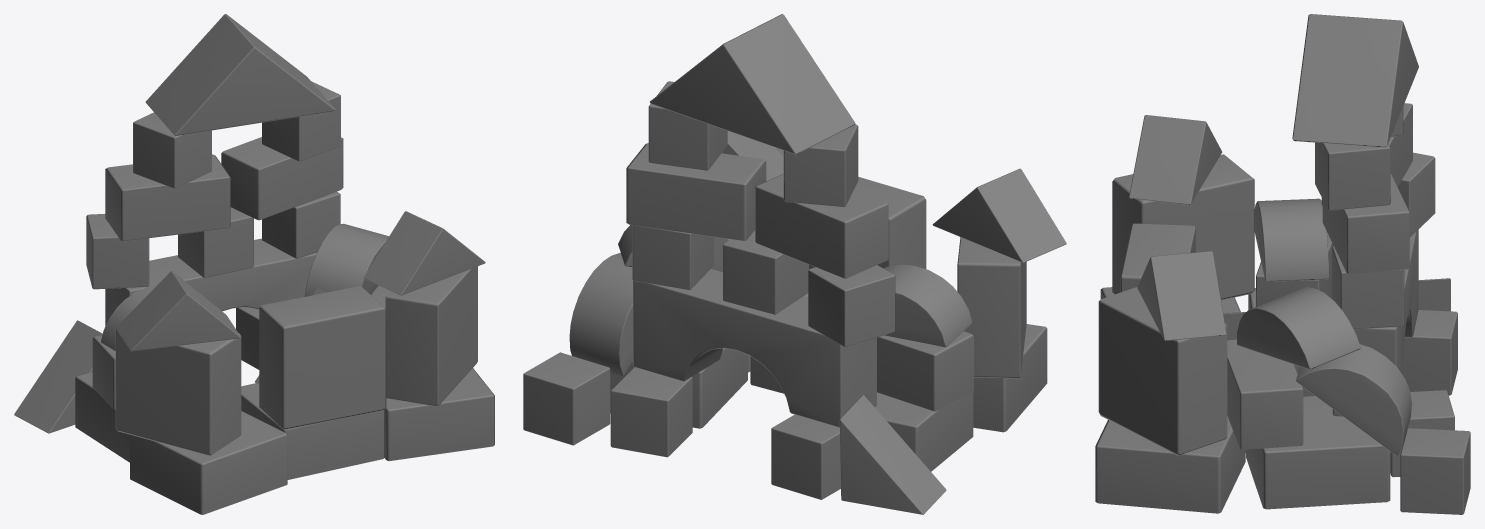
Rendered from Tsumiki.fbx.
3 views of the same model, side by side, from view 1: azimuth 30°, elevation 25°; view 2: azimuth 150°, elevation 25°; view 3: azimuth 270°, elevation 25° (orthographic). The views are drawn at different scales.
Parts seen in each view (by area): view 1: pCube33, pCube26, pCube34, pCube19, pCube16, pCube18, pCube17, pCube22, pCube3, pCube31, pCube28, pCube27 (+11 smaller); view 2: pCube3, pCube34, pCube22, pCube18, pCube30, pCube26, pCube28, pCube29, pCube20, pCube8, pCube10, polySurface3 (+13 smaller); view 3: pCube19, pCube34, pCube13, pCube26, pCube17, polySurface3, polySurface4, pCube25, pCube28, pCube27, pCube29, polySurface2 (+11 smaller).
Boxes of the visible parts, box(x1,y1,x2,y2) form: pCube33: box(259, 286, 386, 429); pCube26: box(115, 329, 241, 456); pCube34: box(145, 14, 335, 136); pCube19: box(385, 266, 477, 406); pCube16: box(130, 411, 287, 514); pCube18: box(105, 154, 230, 241); pCube17: box(384, 368, 494, 460); pCube22: box(221, 137, 343, 220); pCube3: box(105, 238, 316, 325); pCube31: box(241, 383, 384, 479); pCube28: box(116, 271, 241, 351); pCube27: box(363, 211, 485, 295); pCube3: box(633, 269, 876, 427); pCube34: box(650, 14, 855, 154); pCube22: box(626, 143, 766, 240); pCube18: box(755, 174, 888, 278); pCube30: box(839, 395, 946, 514); pCube26: box(957, 237, 1026, 378); pCube28: box(932, 168, 1066, 262); pCube29: box(523, 352, 610, 445); pCube20: box(610, 367, 692, 457); pCube8: box(877, 331, 973, 411); pCube10: box(808, 265, 895, 347); polySurface3: box(569, 253, 632, 376); pCube19: box(1098, 287, 1227, 455); pCube34: box(1292, 14, 1418, 147); pCube13: box(1246, 396, 1390, 509); pCube26: box(1112, 154, 1254, 300); pCube17: box(1095, 416, 1245, 513); polySurface3: box(1296, 344, 1411, 455); polySurface4: box(1237, 287, 1360, 369); pCube25: box(1227, 339, 1303, 449); pCube28: box(1129, 115, 1222, 204); pCube27: box(1137, 251, 1226, 340); pCube29: box(1400, 428, 1470, 514); polySurface2: box(1254, 198, 1329, 281).
Size of the model in its own units: 310 by 304 by 252.
Materials: 1 (1 with a texture image).
